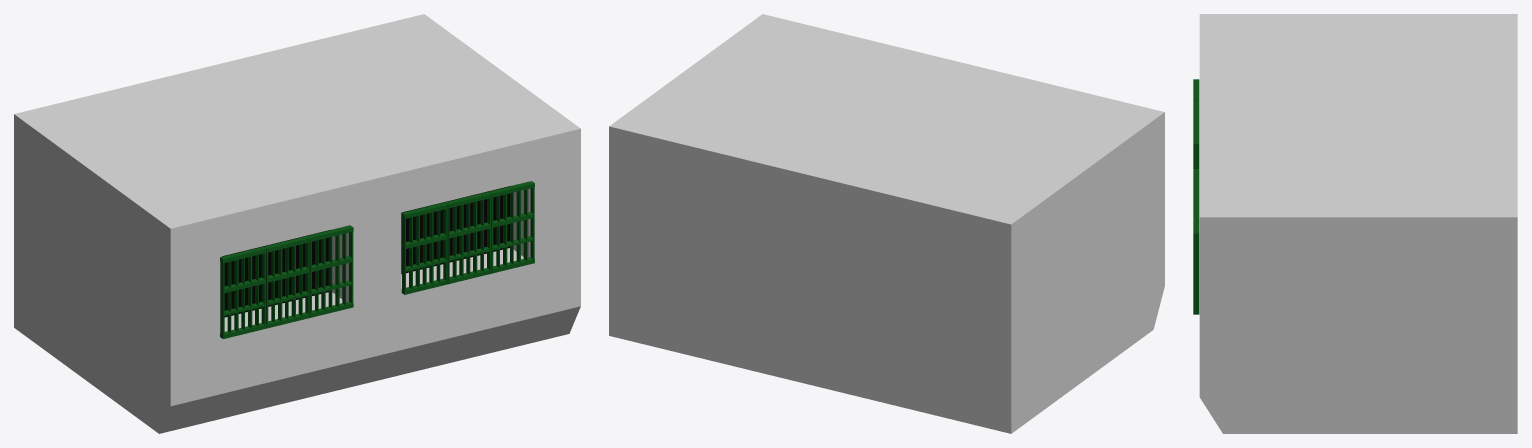
Rendered from apartment_004.glb.
The picture shows the model from 3 angles, left to right: view 1: azimuth 30°, elevation 25°; view 2: azimuth 150°, elevation 25°; view 3: azimuth 270°, elevation 25°; orthographic projection. The views are drawn at different scales.
Visible parts, largest first — view 1: Main_Unit, Window_Frame_Left, Window_Frame_Right, Interior_Plane_Right, Interior_Plane_Left; view 2: Main_Unit; view 3: Main_Unit, Window_Frame_Right, Window_Frame_Left.
Part boxes in pixels (box(x1,y1,x2,y2)): Main_Unit: box(14, 14, 580, 433); Window_Frame_Left: box(220, 225, 353, 338); Window_Frame_Right: box(401, 181, 534, 294); Interior_Plane_Right: box(401, 186, 510, 274); Interior_Plane_Left: box(222, 230, 330, 317); Main_Unit: box(609, 14, 1164, 433); Main_Unit: box(1199, 14, 1517, 433); Window_Frame_Right: box(1193, 169, 1199, 314); Window_Frame_Left: box(1193, 79, 1199, 168).
Size of the model in its own units: 18.21 by 9.06 by 12.29.
